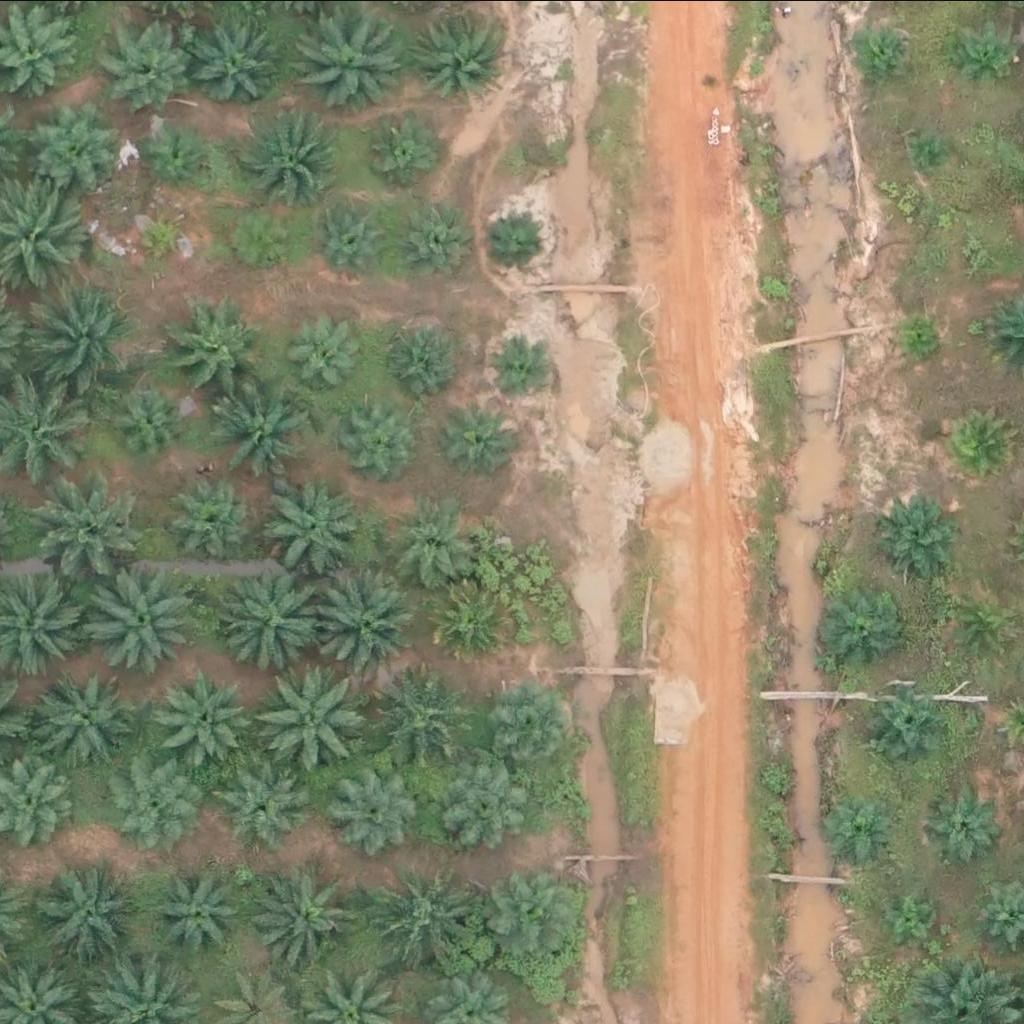Kelapa_Sawit: (82, 568, 196, 681), (309, 563, 422, 676), (213, 571, 326, 684), (17, 283, 131, 395), (255, 664, 369, 776), (23, 472, 136, 584), (378, 864, 491, 976), (21, 93, 122, 193), (169, 301, 270, 401), (218, 387, 319, 487), (266, 477, 367, 577), (34, 671, 135, 771), (371, 669, 472, 769), (264, 867, 365, 967), (235, 102, 336, 202), (300, 10, 400, 110), (491, 858, 591, 958), (39, 861, 140, 960), (863, 683, 951, 771), (108, 25, 196, 113), (391, 200, 479, 288), (429, 581, 517, 669), (107, 378, 195, 466), (167, 671, 255, 759), (335, 769, 423, 857), (195, 23, 284, 110), (442, 759, 531, 846), (819, 583, 907, 670), (415, 14, 503, 101), (310, 191, 398, 278), (176, 474, 264, 561), (396, 497, 484, 584), (488, 681, 576, 768), (213, 769, 301, 856), (101, 760, 189, 847), (152, 866, 240, 953), (887, 499, 963, 574), (929, 790, 1005, 865), (293, 320, 369, 395), (381, 318, 457, 393), (141, 119, 217, 194), (228, 200, 304, 275), (363, 112, 438, 187), (348, 400, 423, 475), (448, 402, 523, 477), (826, 800, 889, 863), (947, 411, 1010, 474), (489, 341, 552, 404), (485, 209, 548, 271), (953, 589, 1016, 651), (129, 206, 192, 268), (856, 31, 906, 81), (959, 36, 1009, 86), (886, 890, 936, 940), (917, 134, 955, 172), (901, 321, 939, 358), (964, 244, 990, 269)
